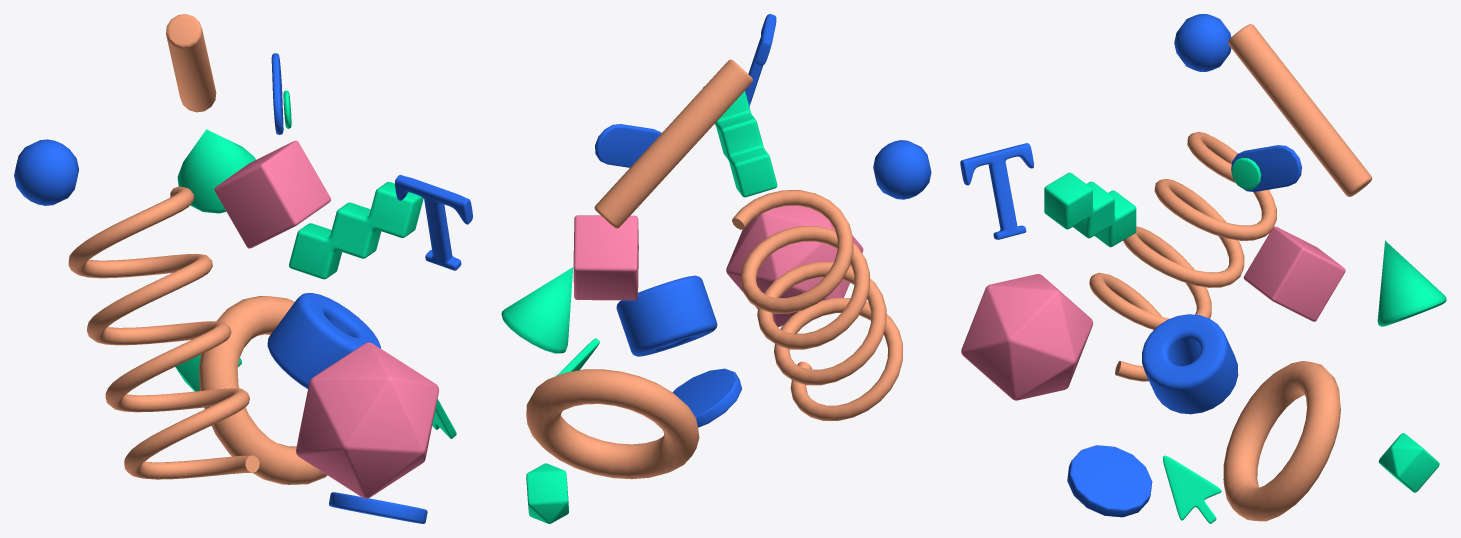
File: Hero2.glb
3 views of the same model, side by side, from view 1: azimuth 30°, elevation 25°; view 2: azimuth 150°, elevation 25°; view 3: azimuth 270°, elevation 25° (orthographic). The views are drawn at different scales.
Visible parts, largest first — view 1: Spiral, Icosphere, Torus, Cube, Cube.003, Cylinder.002, Cone, Cylinder, Sphere.001, Cube.002, Cylinder.001, Cylinder.004 (+1 smaller); view 2: Spiral, Torus, Cylinder, Cylinder.002, Icosphere, Cube, Cone, Cube.003, Sphere.001, Cylinder.001, Sphere, Cylinder.004 (+1 smaller); view 3: Icosphere, Torus, Spiral, Cylinder.002, Cylinder, Cube, Cylinder.001, Cube.003, Cone, Cylinder.004, Cube.002, Sphere.001 (+2 smaller).
Boxes of the visible parts, x1,y1,x2,y2 form: Spiral: (68,186,259,479); Icosphere: (296,342,439,498); Torus: (199,295,327,484); Cube: (214,140,330,248); Cube.003: (289,182,423,279); Cylinder.002: (267,293,380,388); Cone: (177,129,255,213); Cylinder: (166,14,216,112); Sphere.001: (14,139,78,205); Cube.002: (395,175,472,270); Cylinder.001: (329,492,427,523); Cylinder.004: (271,53,291,134); Spiral: (732,190,902,420); Torus: (526,369,699,479); Cylinder: (594,59,752,228); Cylinder.002: (616,275,717,356); Icosphere: (726,193,863,327); Cube: (573,215,638,300); Cone: (501,267,573,353); Cube.003: (703,86,777,197); Sphere.001: (873,140,931,199); Cylinder.001: (672,368,741,427); Sphere: (526,463,568,523); Cylinder.004: (595,124,661,167); Icosphere: (961,274,1093,400); Torus: (1223,361,1340,521); Spiral: (1089,132,1276,381); Cylinder.002: (1142,314,1238,414); Cylinder: (1228,24,1372,196); Cube: (1243,226,1345,321); Cylinder.001: (1067,445,1152,517); Cube.003: (1044,172,1136,247); Cone: (1377,240,1446,326); Cylinder.004: (1231,145,1301,191); Cube.002: (960,143,1033,239); Sphere.001: (1174,14,1231,71).
Size of the model in its own units: 6.13 by 6.79 by 6.89.
